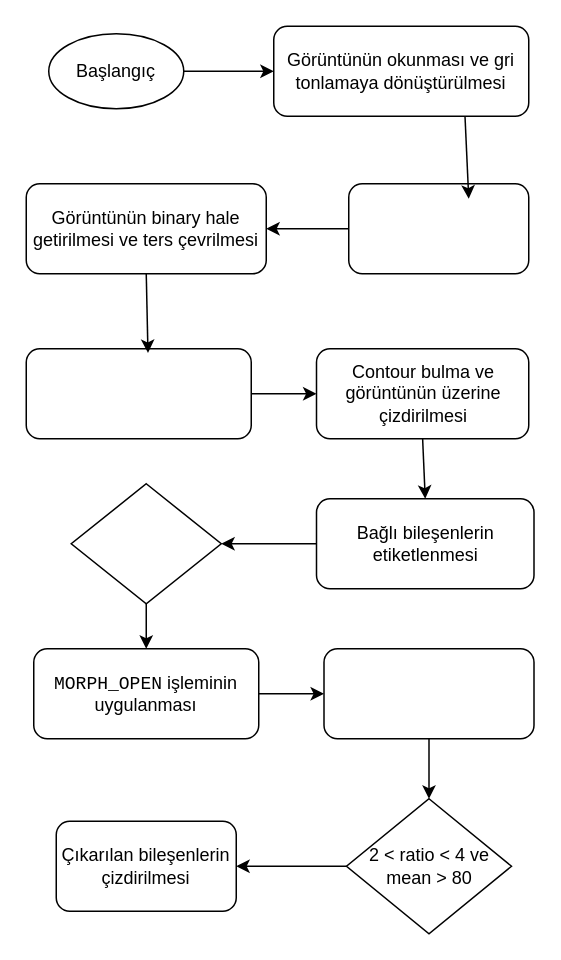
Some shapes in this 561 by 960 pixel diagram are drawn without their labels. Here are the shapes that lost their labels. From the top down, the centre of each, then its label:
At point (438, 228): "Görüntünün bulanıklaştırılması".
At point (138, 393): "MORPH_CLOSE işleminin uygulanması".
At point (145, 543): "alan > 1100?".
At point (428, 693): "Yeni bağlı bileşenlerin etiketlenmesi".
